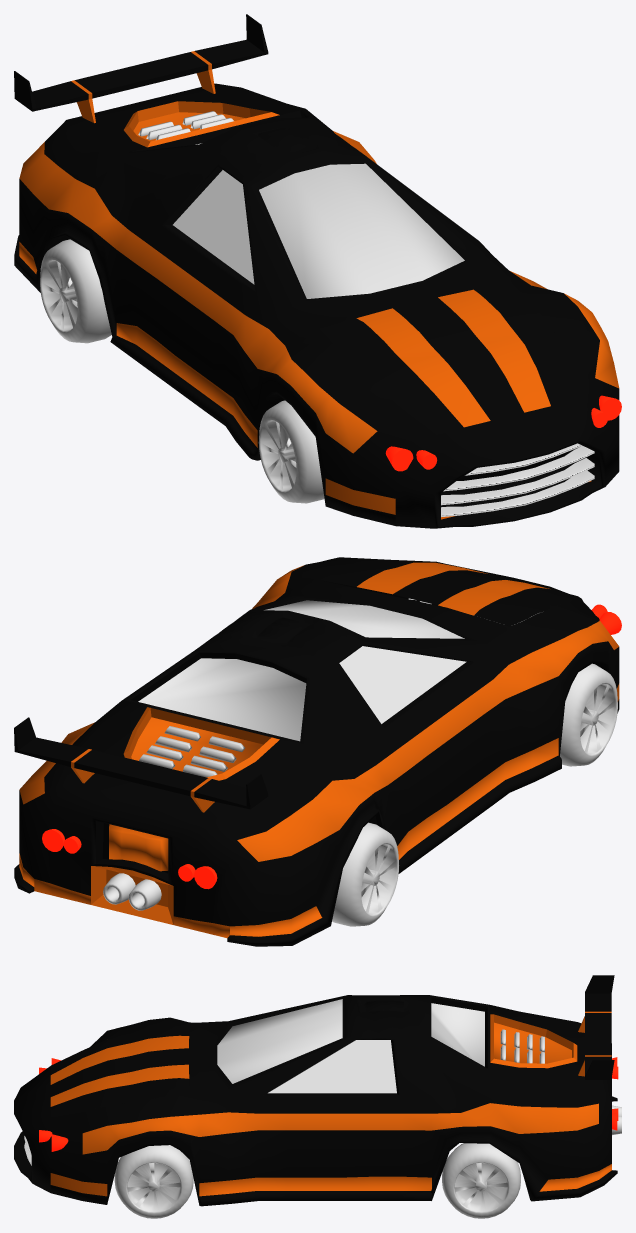
The model's file is Car1.fbx.
3 views of the same model, one above another, from view 1: azimuth 30°, elevation 25°; view 2: azimuth 150°, elevation 25°; view 3: azimuth 270°, elevation 25° (orthographic). The views are drawn at different scales.
Visible parts, largest first — view 1: Body, Capo, Airfoil, Wheel_BR, Details_2, Wheel_FR, Lights, Details_1; view 2: Body, Capo, Airfoil, Wheel_BR, Wheel_FR, Details_1, Hood, Lights.001; view 3: Body, Capo, Wheel_BL, Wheel_FL, Airfoil, Details_1, Lights.
Boxes of the visible parts, x1,y1,x2,y2 form: Body: (14,83,619,528); Capo: (319,282,578,434); Airfoil: (14,14,268,123); Wheel_BR: (40,239,111,343); Details_2: (441,443,594,516); Wheel_FR: (258,400,324,503); Lights: (385,395,621,471); Details_1: (138,111,233,140); Body: (14,557,619,946); Capo: (320,559,577,626); Airfoil: (14,717,268,812); Wheel_BR: (332,822,398,926); Wheel_FR: (560,663,617,766); Details_1: (139,726,244,777); Hood: (103,873,161,910); Lights.001: (42,829,217,889); Body: (14,995,617,1206); Capo: (50,1024,189,1117); Wheel_BL: (442,1143,520,1218); Wheel_FL: (114,1145,193,1218); Airfoil: (578,975,614,1079); Details_1: (500,1029,544,1063); Lights: (39,1058,68,1151).
Bounding box in the file's own units: 504 × 321 × 1104.
